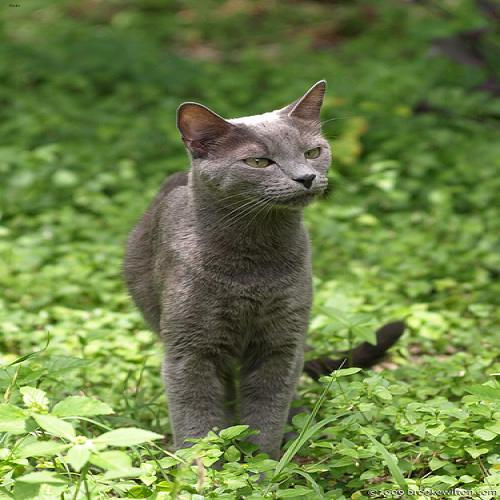rblue: (169, 74, 350, 217)
